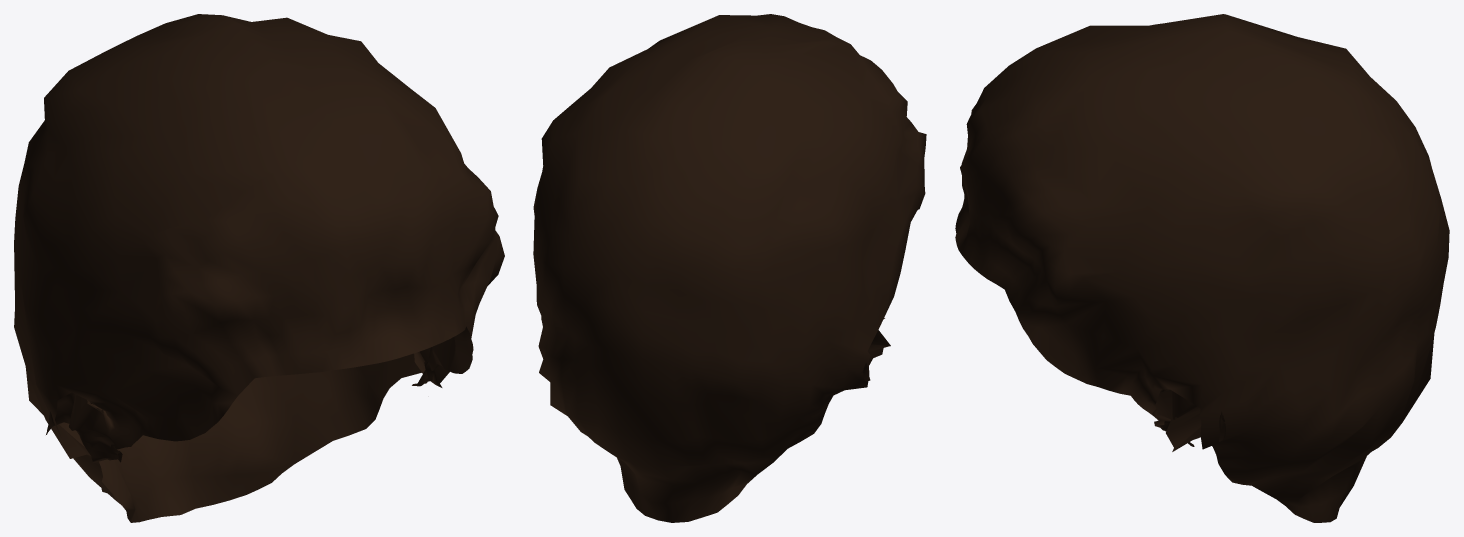
File: hair_curly.glb
3 renders of one model, left to right at view 1: azimuth 30°, elevation 25°; view 2: azimuth 150°, elevation 25°; view 3: azimuth 270°, elevation 25°, orthographic. The views are drawn at different scales.
Parts seen in each view (by area): view 1: hair_curly; view 2: hair_curly; view 3: hair_curly.
Part boxes in pixels (x1=…): hair_curly: x1=14, y1=14, x2=504, y2=522; hair_curly: x1=533, y1=14, x2=926, y2=522; hair_curly: x1=955, y1=14, x2=1449, y2=522.
Bounding box in the file's own units: 0.1911 × 0.2496 × 0.2315.
